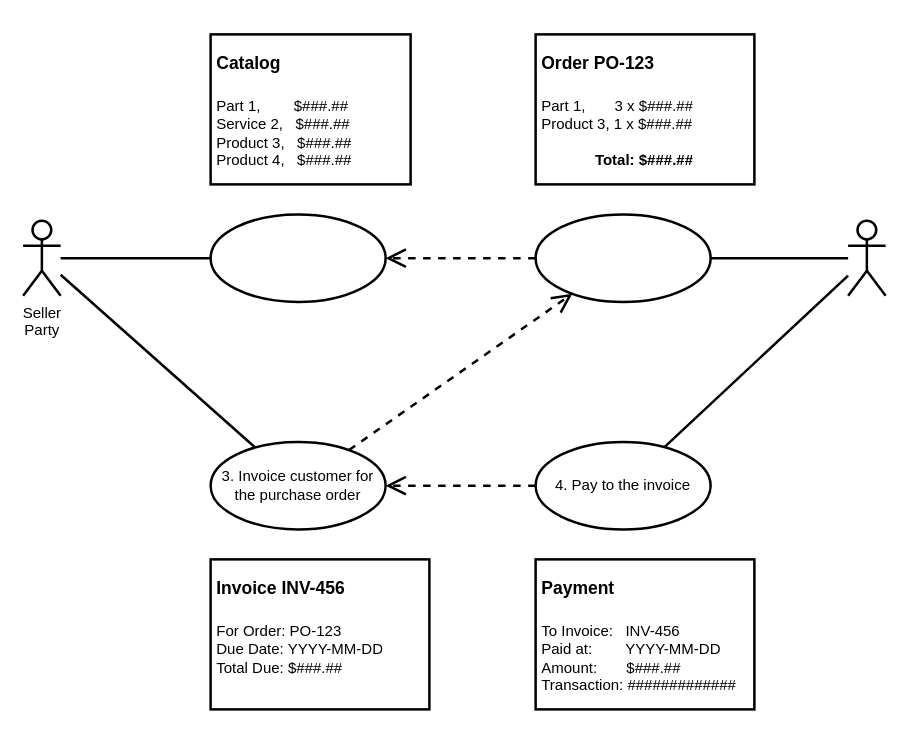
Image size: 920x731. Some labels were removed from this diagram. The centre of each missing label's shape, as x and y in pixels:
1. Provide catalog of parts, products, services: (297,257)
2. Make a purchase order from seller: (622,257)
Customer Party: (866,257)
